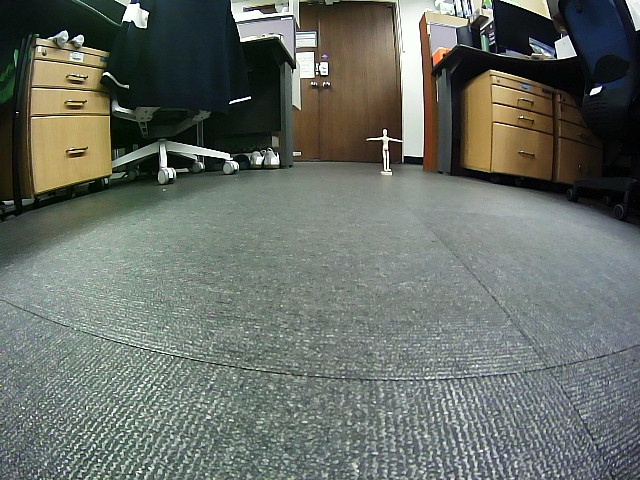person: (367, 129, 403, 169)
